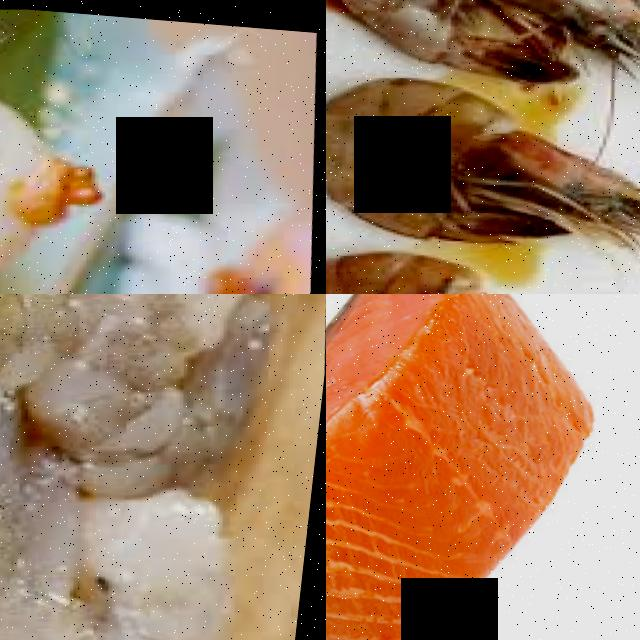salmon: (326, 294, 640, 640)
shrimp: (326, 40, 640, 276), (326, 0, 640, 102), (326, 215, 640, 294)
spinach: (69, 294, 299, 496), (16, 466, 258, 640), (0, 354, 53, 640)
